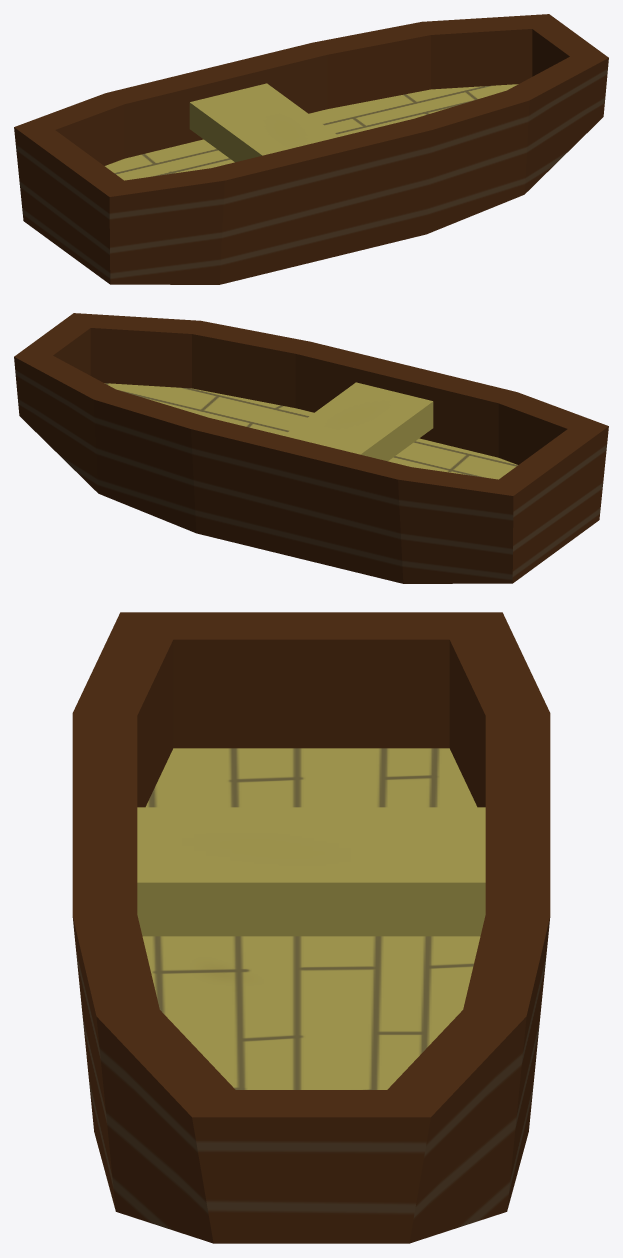
The model's file is boat.glb.
3 views of the same model, one above another, from view 1: azimuth 30°, elevation 25°; view 2: azimuth 150°, elevation 25°; view 3: azimuth 270°, elevation 25° (orthographic). The views are drawn at different scales.
Parts seen in each view (by area): view 1: Boat; view 2: Boat; view 3: Boat.
Boxes of the visible parts, x1,y1,x2,y2 form: Boat: [14, 14, 608, 284]; Boat: [14, 313, 608, 583]; Boat: [72, 612, 550, 1243].
Size of the model in its own units: 5 by 1 by 2.
1 material, 1 textured.
